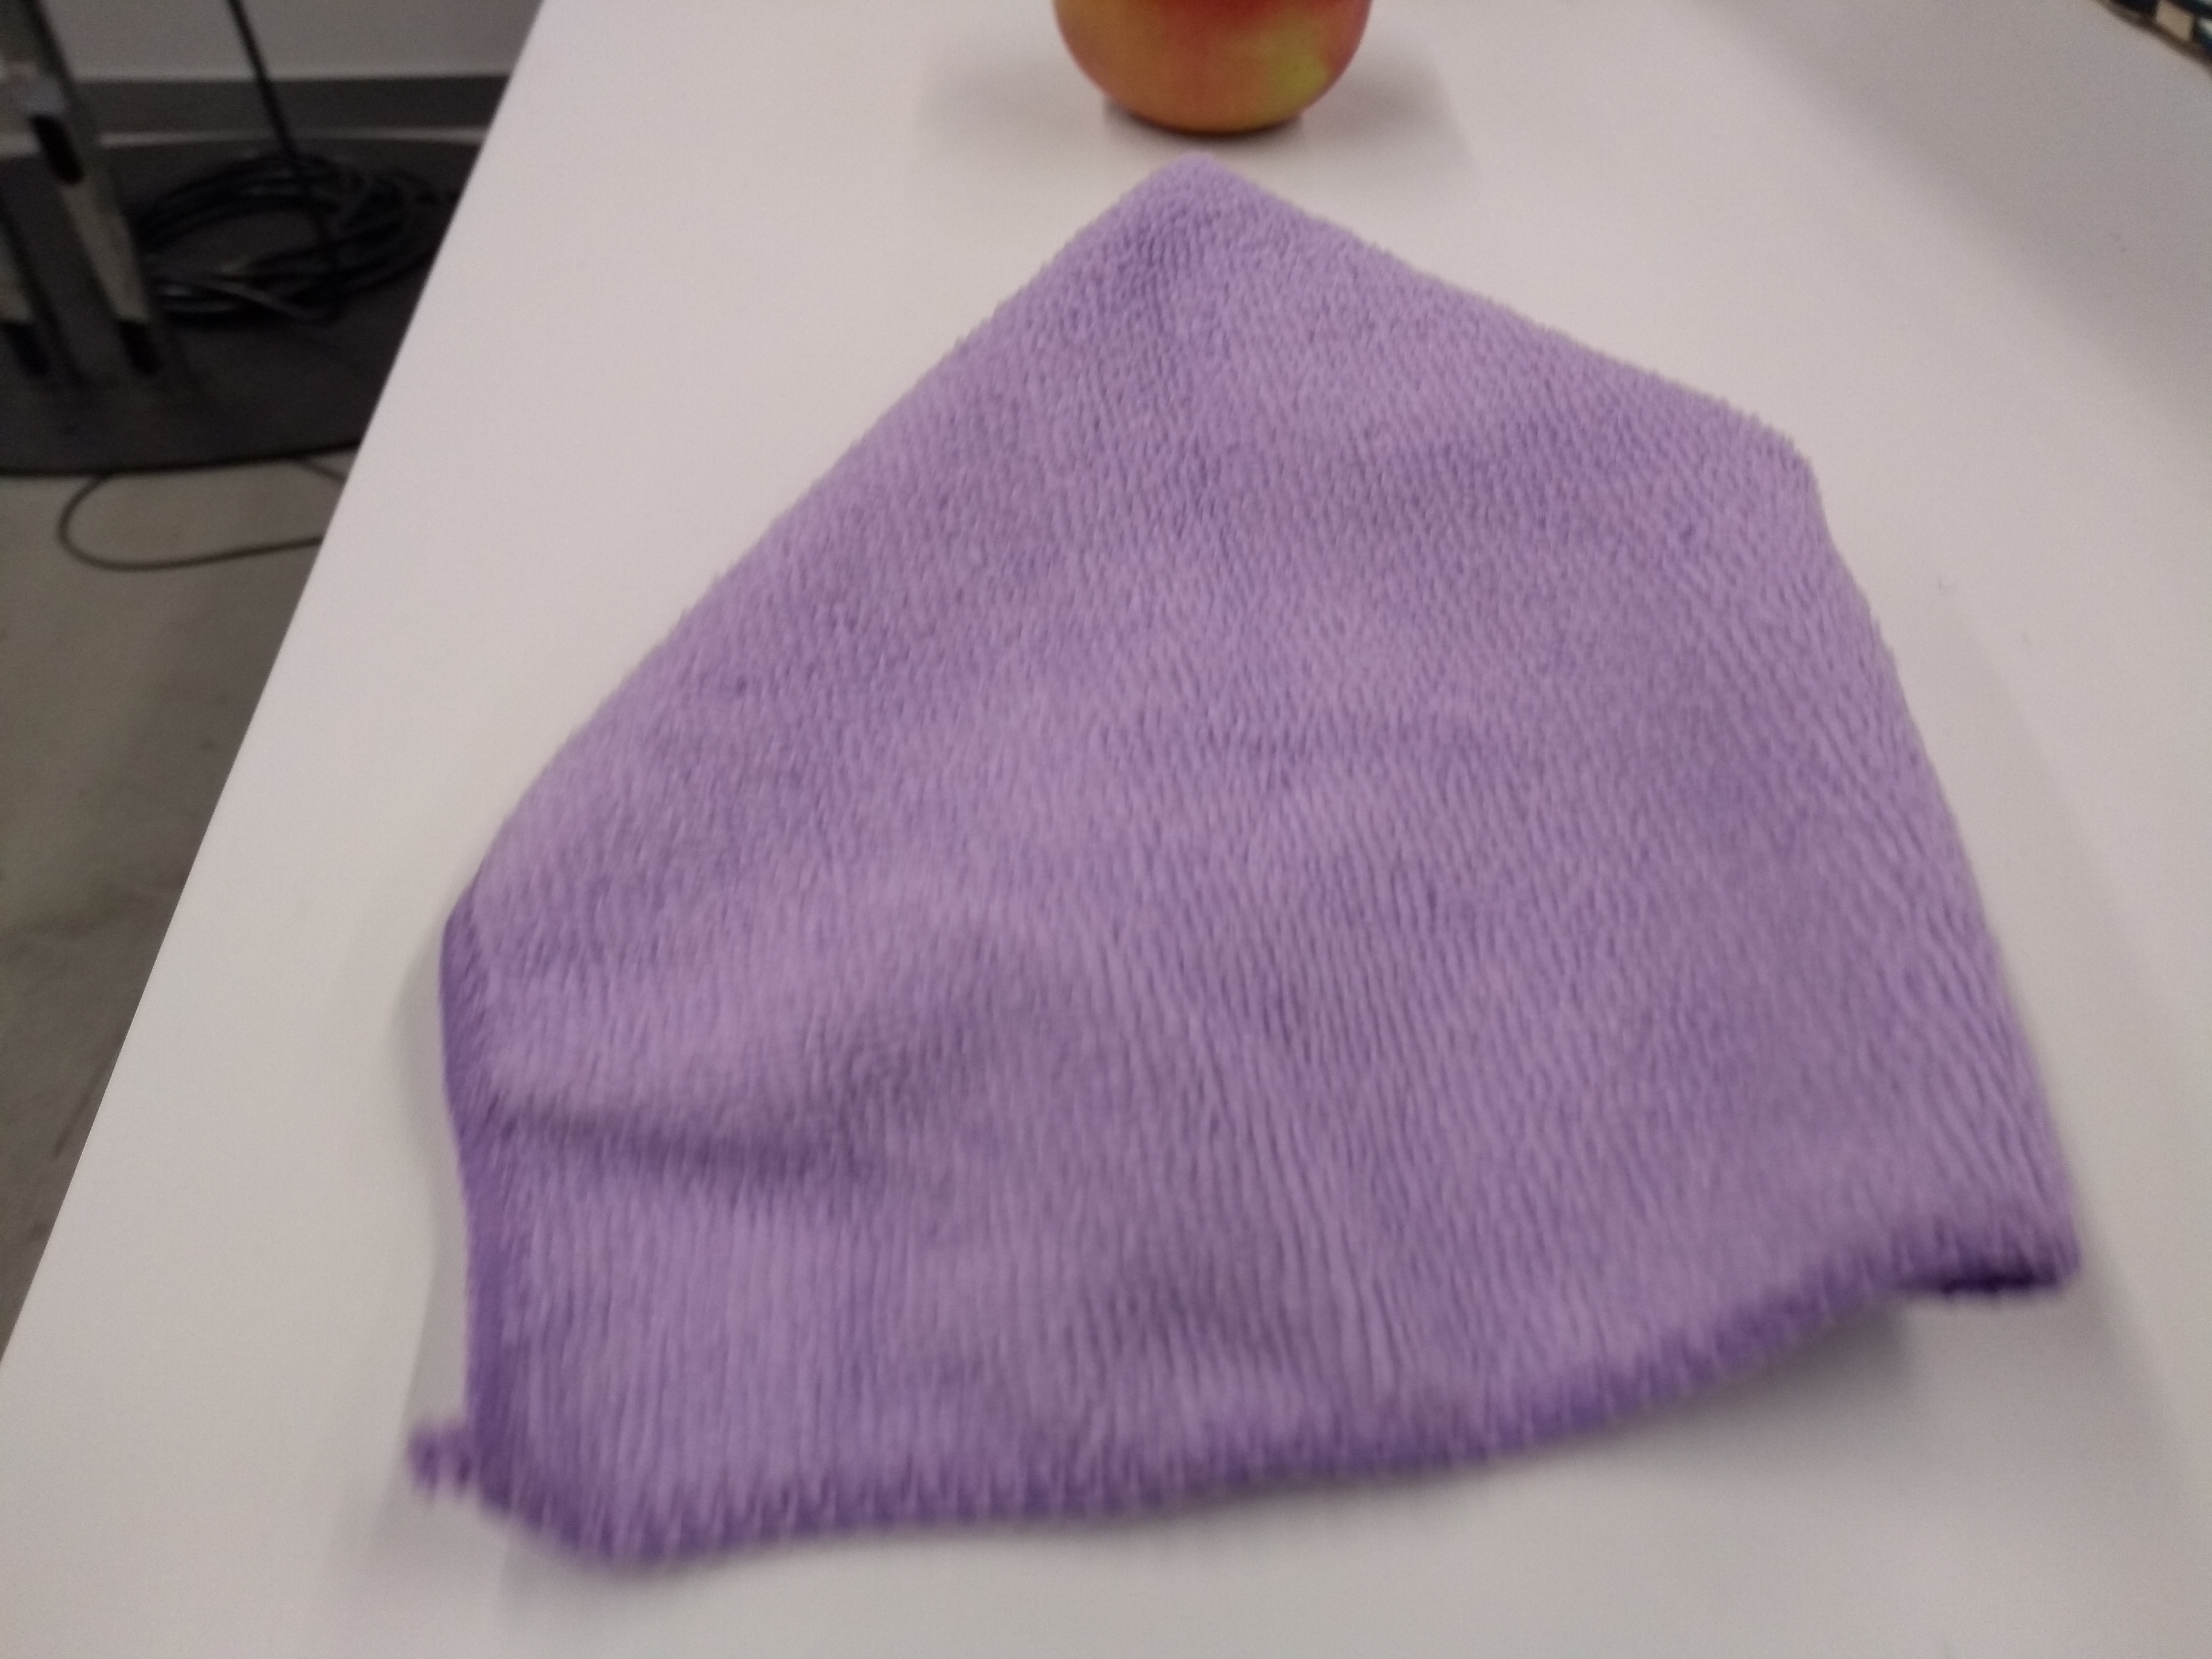cloth_opl: (413, 127, 2097, 1575)
